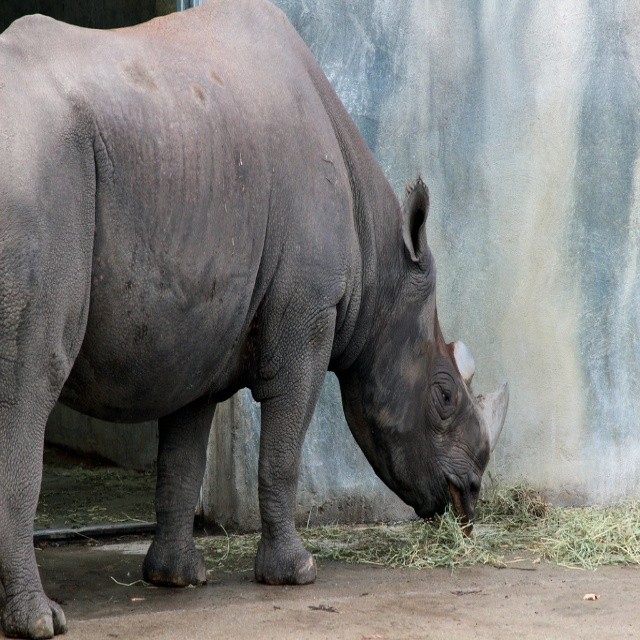Rhinoceros: (0, 0, 512, 639)
